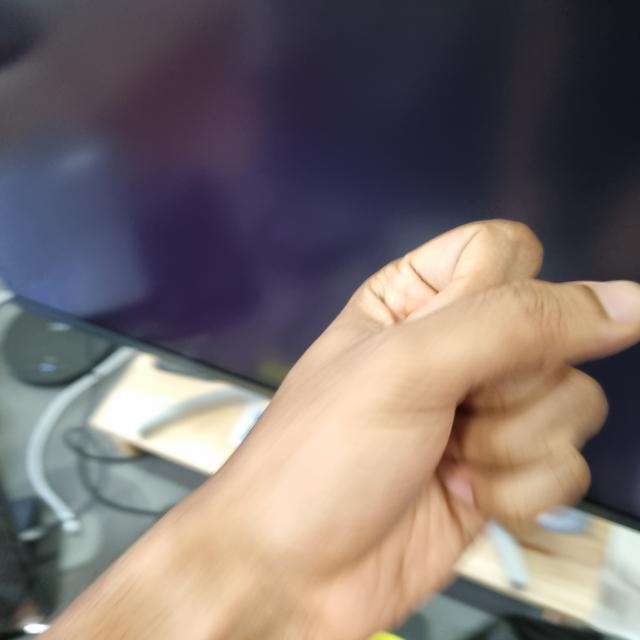Rock: (182, 233, 639, 639)
